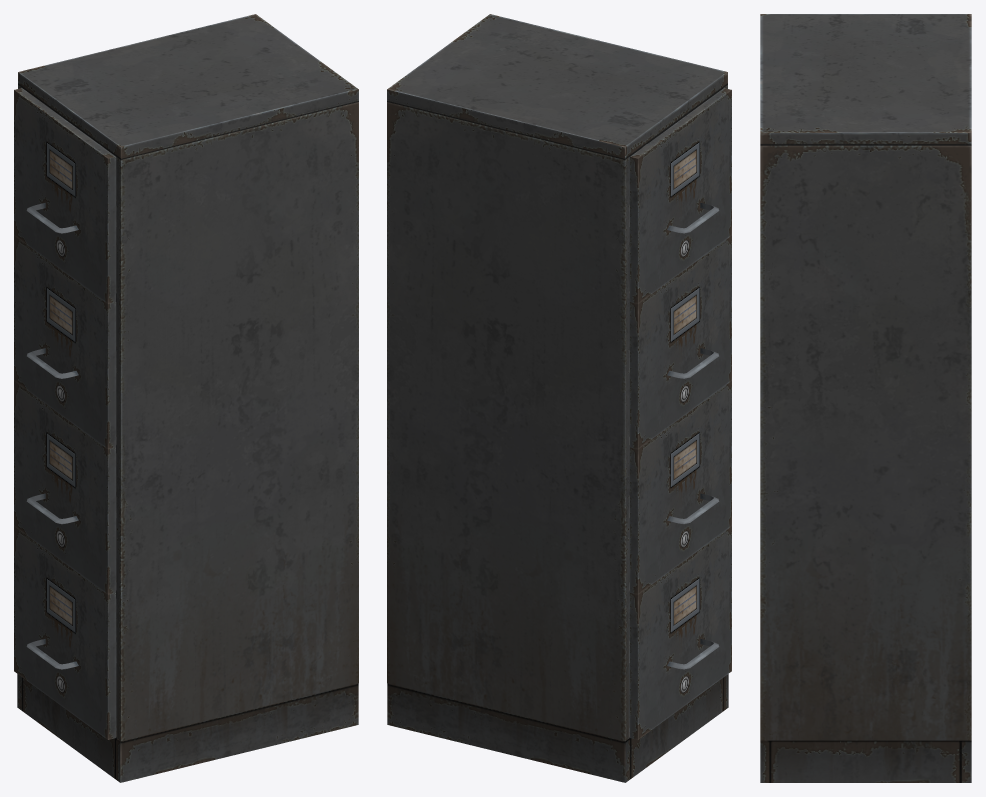
Rendered from filingCabinet02.FBX.
3 renders of one model, left to right at view 1: azimuth 30°, elevation 25°; view 2: azimuth 150°, elevation 25°; view 3: azimuth 270°, elevation 25°, orthographic. The views are drawn at different scales.
Visible parts, largest first — view 1: filingCabinet02, filingCabinet02_drawer04, filingCabinet02_drawer03, filingCabinet02_drawer02, filingCabinet02_drawer01; view 2: filingCabinet02, filingCabinet02_drawer04, filingCabinet02_drawer03, filingCabinet02_drawer02, filingCabinet02_drawer01; view 3: filingCabinet02.
Part boxes in pixels (<box>): filingCabinet02: <box>17,14,358,782</box>; filingCabinet02_drawer04: <box>14,88,116,303</box>; filingCabinet02_drawer03: <box>14,235,116,449</box>; filingCabinet02_drawer02: <box>14,381,116,594</box>; filingCabinet02_drawer01: <box>14,526,116,739</box>; filingCabinet02: <box>387,14,728,782</box>; filingCabinet02_drawer04: <box>629,88,731,303</box>; filingCabinet02_drawer03: <box>629,235,731,449</box>; filingCabinet02_drawer02: <box>629,381,731,594</box>; filingCabinet02_drawer01: <box>629,526,731,739</box>; filingCabinet02: <box>760,14,971,782</box>.
Size of the model in its own units: 67.08 by 153 by 45.
